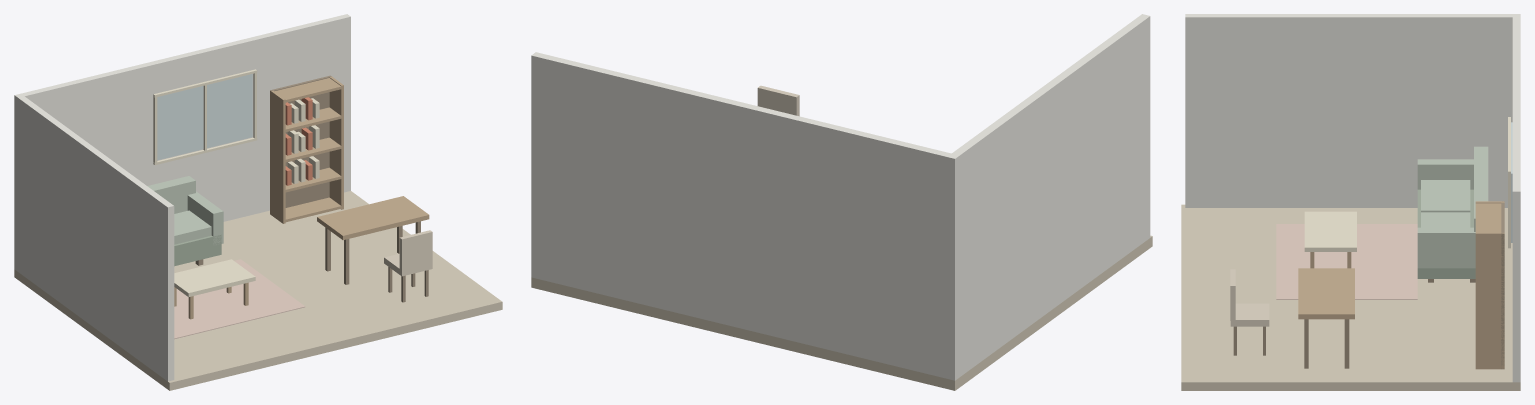
The model's file is SmartSpace_Demo_Room.glb.
The picture shows the model from 3 angles, left to right: view 1: azimuth 30°, elevation 25°; view 2: azimuth 150°, elevation 25°; view 3: azimuth 270°, elevation 25°; orthographic projection. The views are drawn at different scales.
Visible parts, largest first — view 1: Room_Shell/Floor_0, Room_Shell/Wall_Left_2, Room_Shell/Wall_Back_1, Room_Shell/Window_Glass_3, Rug_01/Rug_0, Desk_01/Tabletop_0, Bookshelf_01/Side_1, Coffee_Table_01/Tabletop_0, Bookshelf_01/Back_0, Bookshelf_01/Side_2, Chair_01/Back_1, Sofa_01/Base_0 (+10 smaller); view 2: Room_Shell/Wall_Back_1, Room_Shell/Wall_Left_2, Room_Shell/Floor_0, Chair_01/Back_1; view 3: Room_Shell/Wall_Left_2, Room_Shell/Floor_0, Rug_01/Rug_0, Bookshelf_01/Side_2, Room_Shell/Wall_Back_1, Desk_01/Tabletop_0, Sofa_01/Arm_3, Coffee_Table_01/Tabletop_0, Sofa_01/Seat_Cushion_4, Sofa_01/Arm_2, Sofa_01/Base_0, Sofa_01/Back_1 (+6 smaller).
Part boxes in pixels (left/top/right/bottom): Room_Shell/Floor_0: left=14, top=191, right=502, bottom=390; Room_Shell/Wall_Left_2: left=16, top=95, right=174, bottom=381; Room_Shell/Wall_Back_1: left=14, top=14, right=350, bottom=270; Room_Shell/Window_Glass_3: left=157, top=74, right=252, bottom=160; Rug_01/Rug_0: left=174, top=259, right=305, bottom=339; Desk_01/Tabletop_0: left=317, top=196, right=429, bottom=240; Bookshelf_01/Side_1: left=270, top=90, right=285, bottom=223; Coffee_Table_01/Tabletop_0: left=174, top=259, right=255, bottom=297; Bookshelf_01/Back_0: left=270, top=75, right=331, bottom=207; Bookshelf_01/Side_2: left=329, top=76, right=343, bottom=209; Chair_01/Back_1: left=399, top=230, right=432, bottom=271; Sofa_01/Base_0: left=174, top=234, right=221, bottom=266; Room_Shell/Wall_Back_1: left=531, top=52, right=959, bottom=380; Room_Shell/Wall_Left_2: left=951, top=14, right=1150, bottom=378; Room_Shell/Floor_0: left=531, top=235, right=1152, bottom=390; Chair_01/Back_1: left=757, top=85, right=799, bottom=116; Room_Shell/Wall_Left_2: left=1185, top=14, right=1516, bottom=207; Room_Shell/Floor_0: left=1181, top=204, right=1520, bottom=390; Rug_01/Rug_0: left=1276, top=224, right=1417, bottom=299; Bookshelf_01/Side_2: left=1475, top=232, right=1504, bottom=369; Room_Shell/Wall_Back_1: left=1512, top=14, right=1520, bottom=382; Desk_01/Tabletop_0: left=1298, top=268, right=1354, bottom=319; Sofa_01/Arm_3: left=1417, top=227, right=1475, bottom=268; Coffee_Table_01/Tabletop_0: left=1304, top=211, right=1356, bottom=251; Sofa_01/Seat_Cushion_4: left=1421, top=180, right=1470, bottom=212; Sofa_01/Arm_2: left=1417, top=159, right=1473, bottom=189; Sofa_01/Base_0: left=1417, top=189, right=1475, bottom=278; Sofa_01/Back_1: left=1474, top=146, right=1488, bottom=231.
Size of the model in its own units: 5.2 by 2.72 by 4.2.
